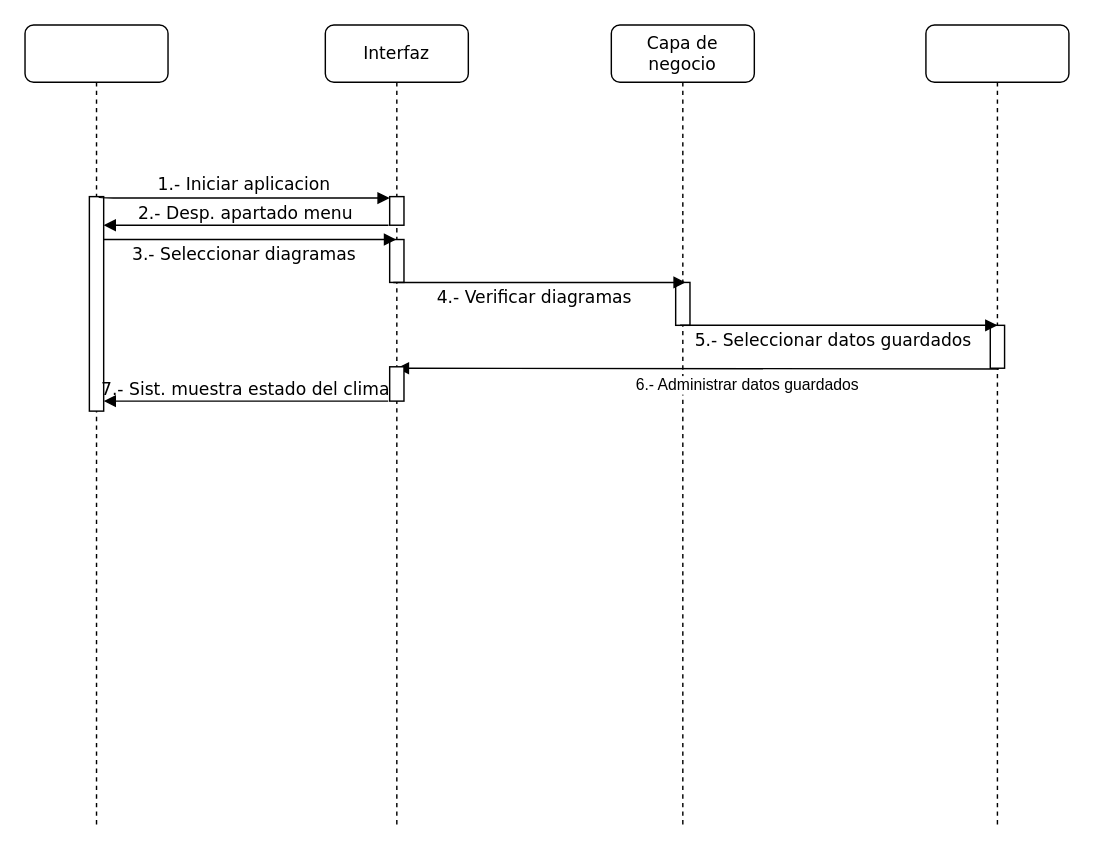
Image size: 1094x851. Some labels were removed from this diagram. Each missing label, with the box of its shape:
Base de datos: (924, 24, 1069, 826)
Usuario: (24, 24, 168, 826)
